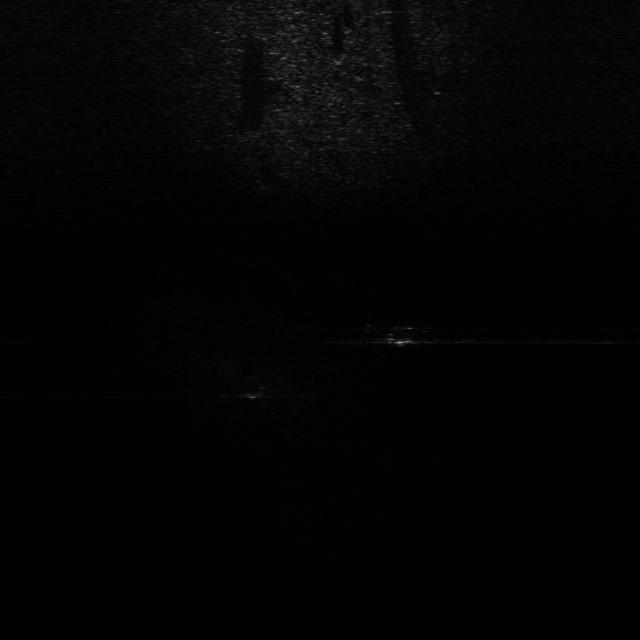ball: (234, 370, 268, 402)
human body: (364, 308, 450, 354)
